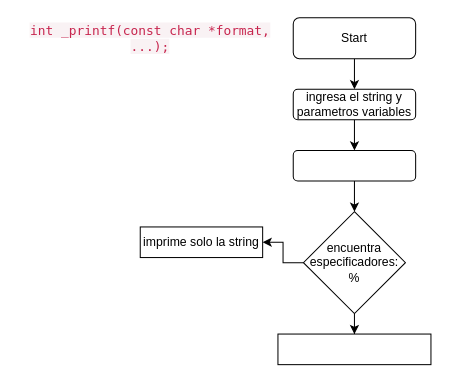
The diagram is 449 pixels wide and 383 high, and some of its shapes have lost their labels. The shapes that lost their labels are listed below. From the top down, each one's centre as x and y in pixels, then its label:
pixel 354 165: evalua string
pixel 354 349: cuenta '%' == parametros
